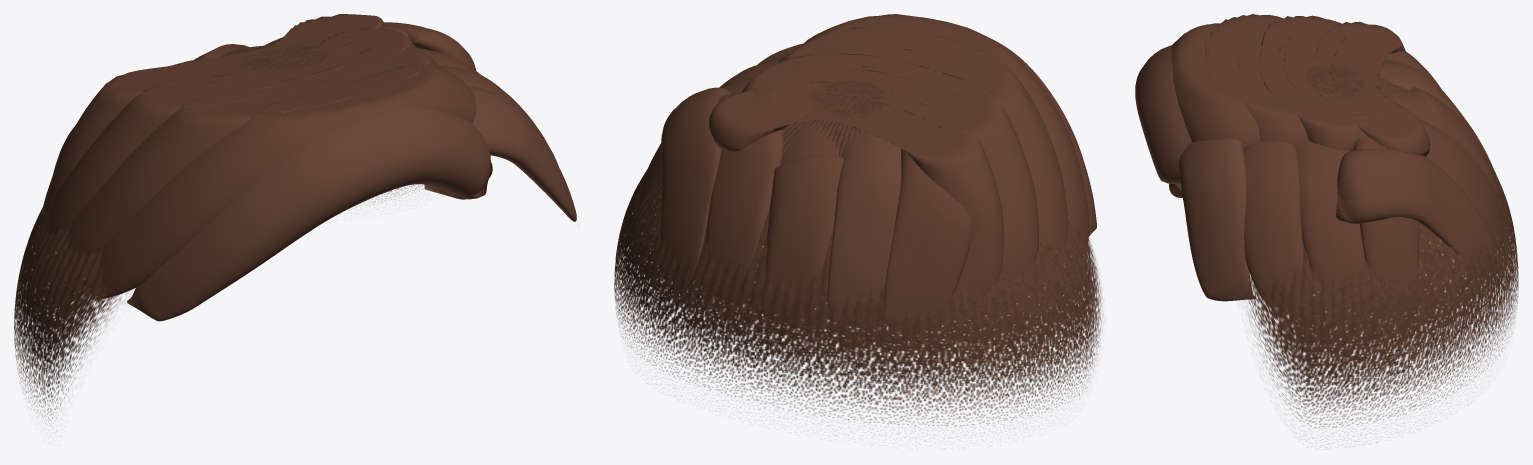
The model's file is Masculine-taper-bucket256-hair.glb.
3 renders of one model, left to right at view 1: azimuth 30°, elevation 25°; view 2: azimuth 150°, elevation 25°; view 3: azimuth 270°, elevation 25°, orthographic. The views are drawn at different scales.
Parts seen in each view (by area): view 1: 226 hair / Hair252 / sculpted locks, 226 hair / Hair252 / gentle tonal variation, 226 hair / Hair256 / selected B sides; view 2: 226 hair / Hair252 / sculpted locks, 226 hair / Hair256 / selected B sides, 226 hair / Hair252 / gentle tonal variation; view 3: 226 hair / Hair252 / sculpted locks, 226 hair / Hair256 / selected B sides, 226 hair / Hair252 / gentle tonal variation.
Boxes of the visible parts, x1,y1,x2,y2 form: 226 hair / Hair252 / sculpted locks: [41, 14, 558, 298]; 226 hair / Hair252 / gentle tonal variation: [127, 58, 576, 321]; 226 hair / Hair256 / selected B sides: [14, 44, 576, 421]; 226 hair / Hair252 / sculpted locks: [634, 14, 1088, 328]; 226 hair / Hair256 / selected B sides: [614, 80, 1103, 432]; 226 hair / Hair252 / gentle tonal variation: [757, 20, 1096, 326]; 226 hair / Hair252 / sculpted locks: [1171, 14, 1503, 306]; 226 hair / Hair256 / selected B sides: [1244, 63, 1518, 447]; 226 hair / Hair252 / gentle tonal variation: [1135, 45, 1492, 301].
Size of the model in its own units: 0.972 by 0.6199 by 0.7438.
Materials: 3 (1 with a texture image).
